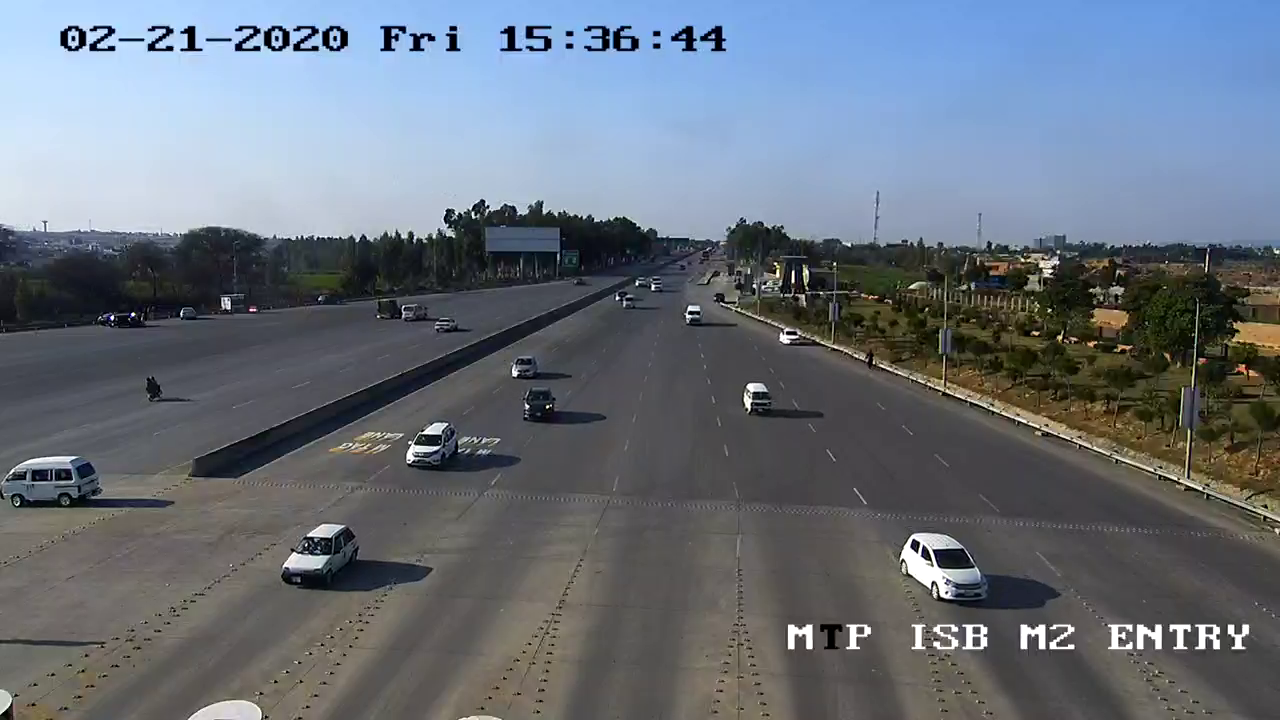f1: (892, 528, 995, 615), (271, 518, 375, 597), (395, 415, 469, 483), (731, 372, 788, 428), (506, 383, 569, 426), (502, 348, 545, 391)
